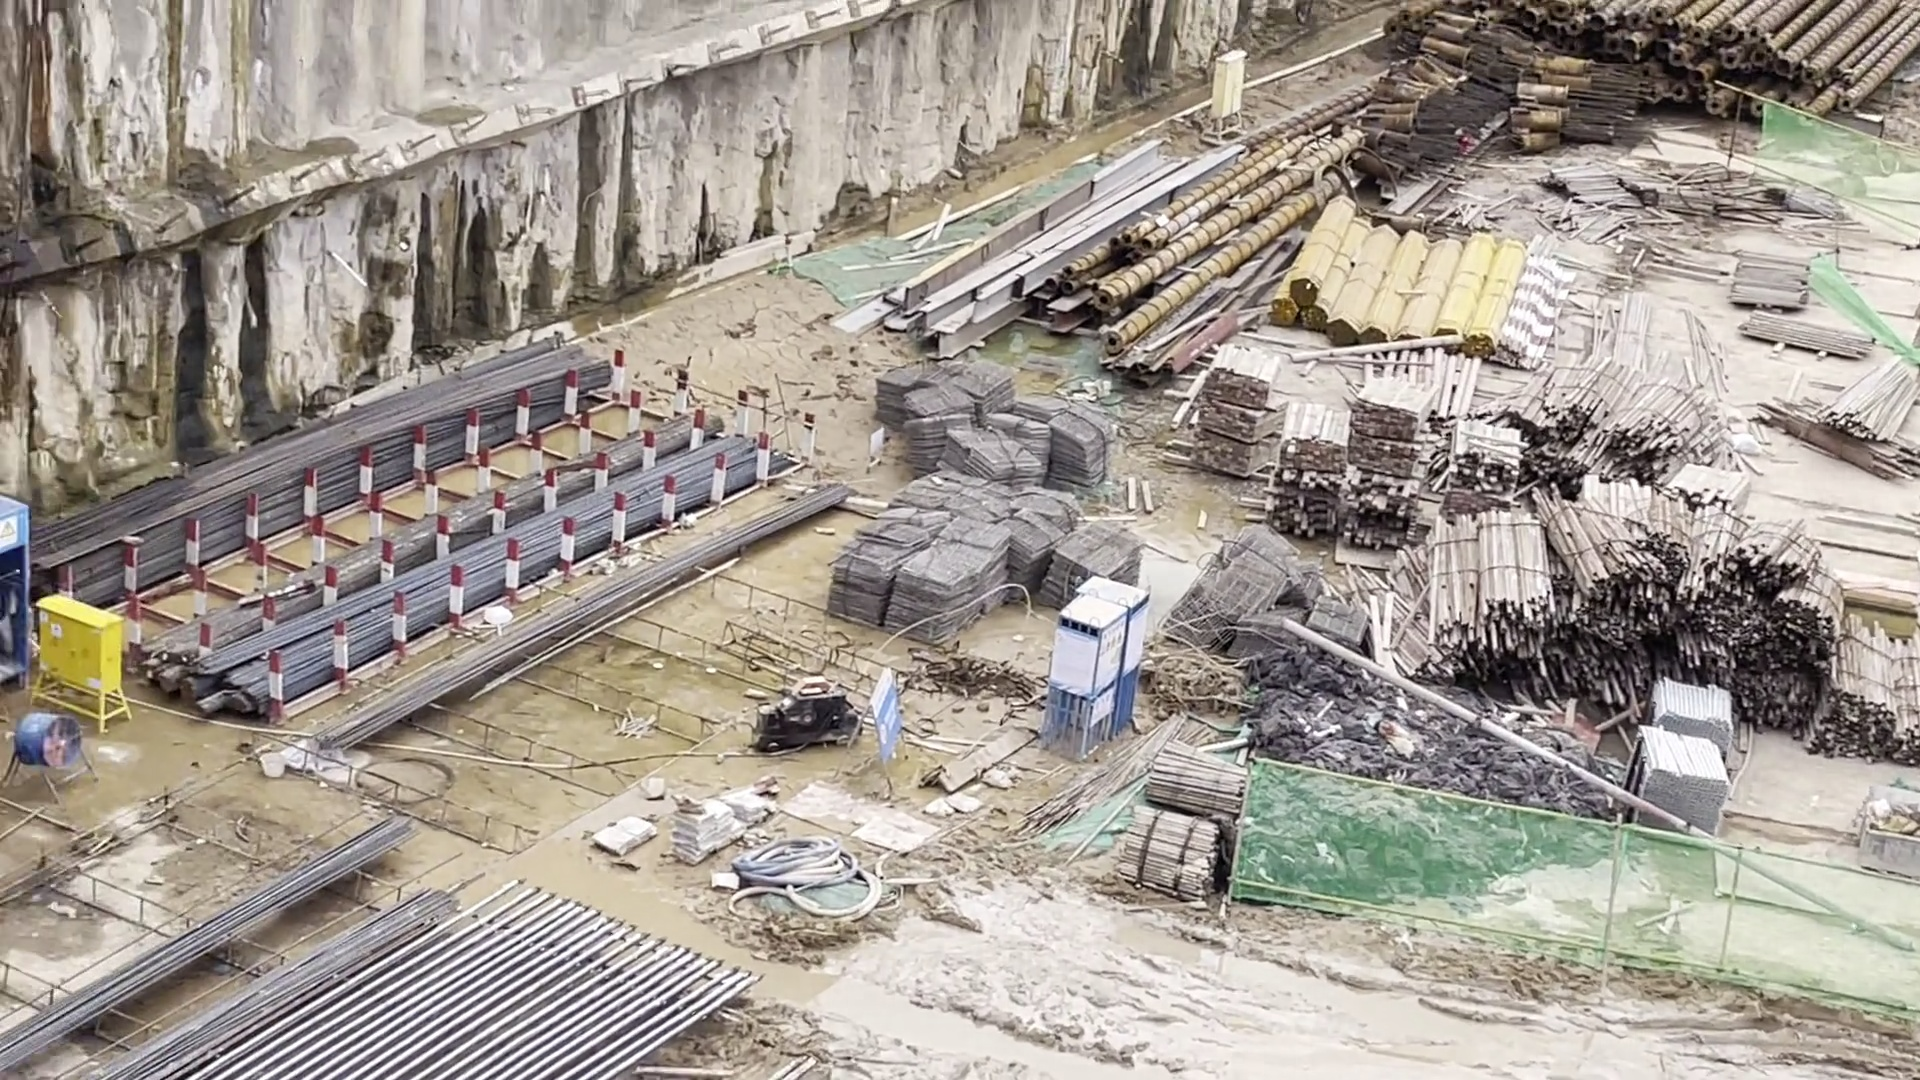ebox: (34, 597, 140, 733)
hopper: (1861, 779, 1920, 876)
rebar: (36, 330, 857, 765)
wood: (1188, 335, 1443, 549)
